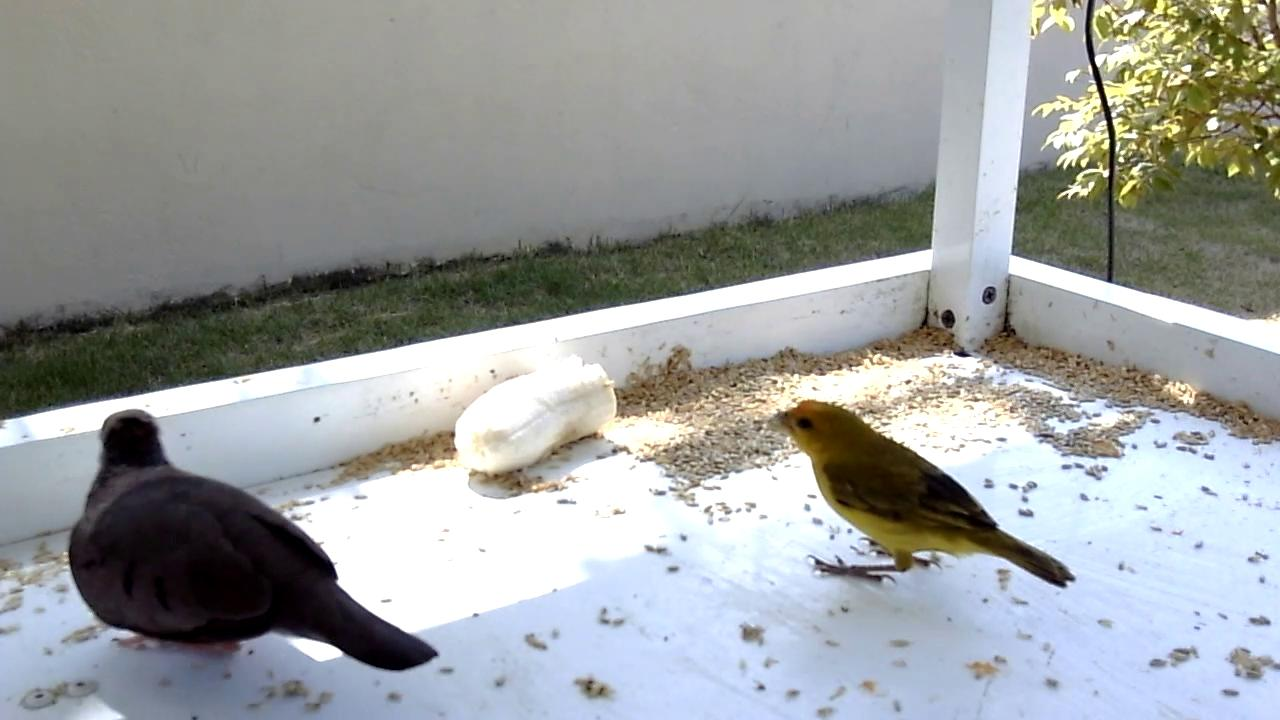canario_do_amazonas: (769, 401, 1079, 593)
rolinha: (66, 403, 443, 677)
